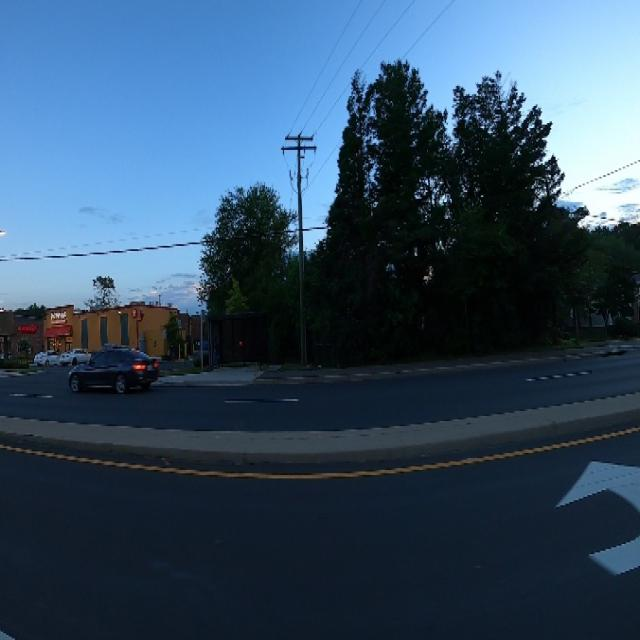cars: (67, 339, 159, 401), (56, 344, 95, 369), (32, 344, 58, 374)
